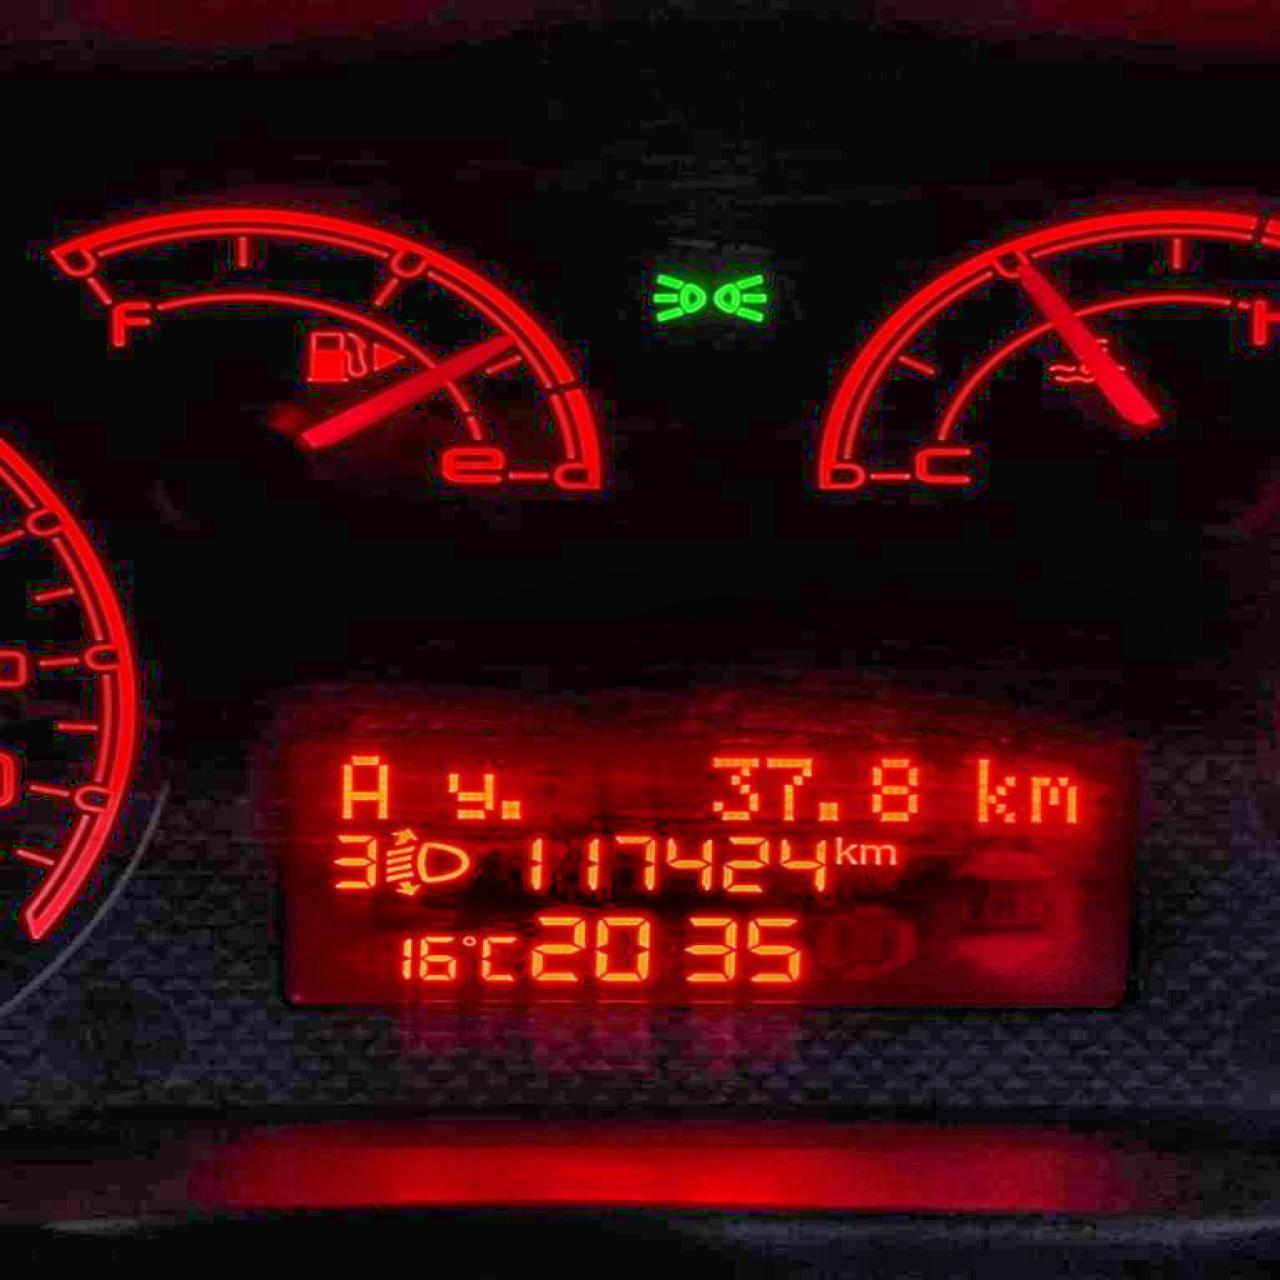-: (813, 798, 843, 824), (496, 797, 525, 822)
0: (592, 915, 654, 983)
1: (526, 833, 545, 892), (584, 833, 601, 892), (400, 937, 413, 981)
2: (527, 913, 588, 982), (722, 835, 770, 896)
3: (682, 913, 737, 982), (708, 755, 761, 821), (334, 832, 377, 890)
4: (665, 833, 712, 892), (776, 837, 825, 892)
6: (417, 933, 456, 982)
7: (763, 754, 813, 822), (612, 830, 659, 894)
8: (867, 755, 921, 826)
X: (971, 754, 1021, 830), (338, 751, 392, 821), (1021, 770, 1080, 825), (445, 769, 493, 819), (479, 934, 515, 981), (859, 840, 897, 865), (833, 835, 857, 865)
odometer: (279, 729, 1139, 1014)
